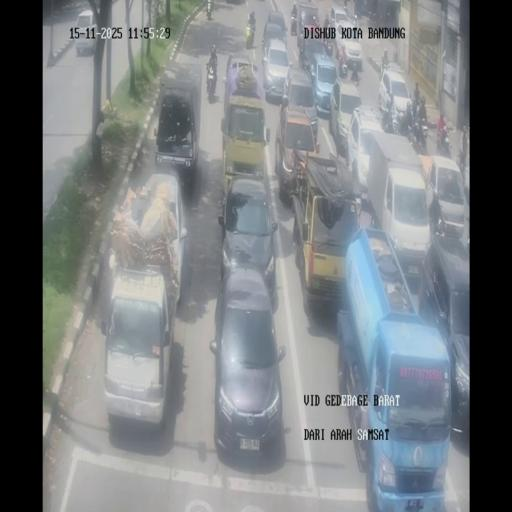car: (210, 268, 286, 464), (102, 262, 176, 430), (153, 72, 200, 184), (275, 106, 319, 201), (425, 155, 467, 236), (347, 105, 387, 189), (307, 53, 338, 117), (261, 38, 291, 102), (74, 9, 96, 55), (340, 30, 364, 70), (300, 12, 322, 52), (263, 10, 287, 42), (328, 4, 350, 38)
motorcycle: (408, 122, 428, 154), (205, 57, 218, 98), (435, 127, 451, 157), (456, 145, 468, 178), (382, 103, 394, 133), (398, 113, 412, 137), (428, 207, 439, 236), (418, 98, 428, 128), (245, 21, 255, 48), (350, 62, 360, 86), (334, 36, 342, 62), (381, 55, 391, 74), (324, 36, 333, 57), (339, 57, 348, 78), (290, 14, 298, 35), (412, 95, 418, 119), (206, 1, 213, 20), (353, 14, 359, 29), (324, 13, 329, 28), (343, 0, 348, 11)
truck: (338, 232, 450, 508), (293, 154, 363, 313), (219, 64, 268, 204)
